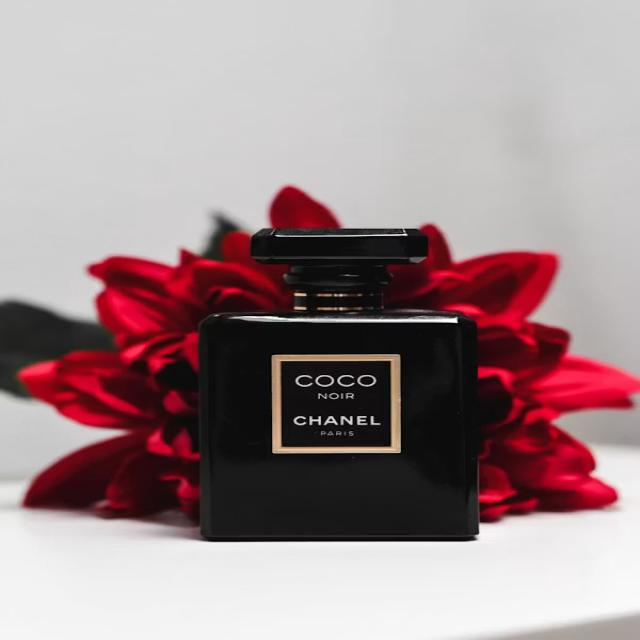Bottle: (200, 229, 477, 540)
